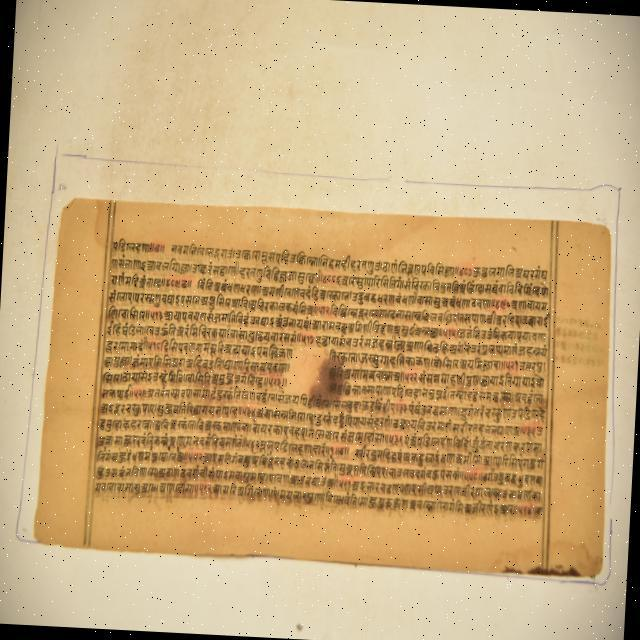text_paragraph: (36, 198, 604, 579)
